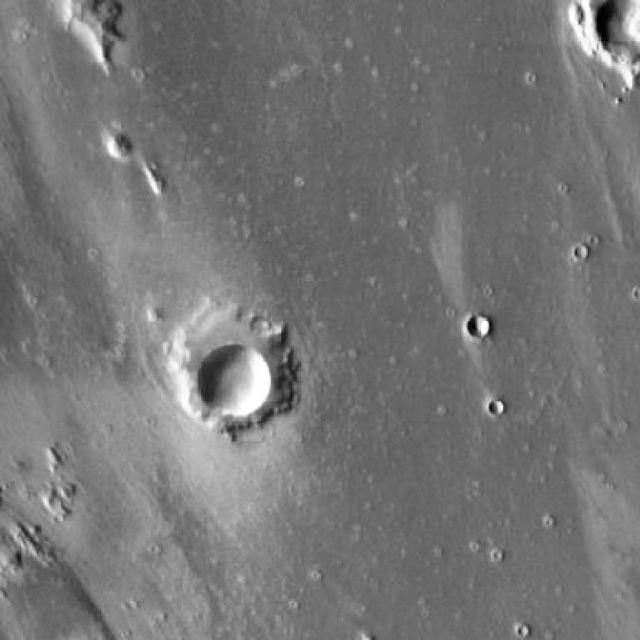crater: (200, 342, 274, 416), (607, 0, 640, 57), (468, 318, 490, 342), (489, 401, 505, 416)
